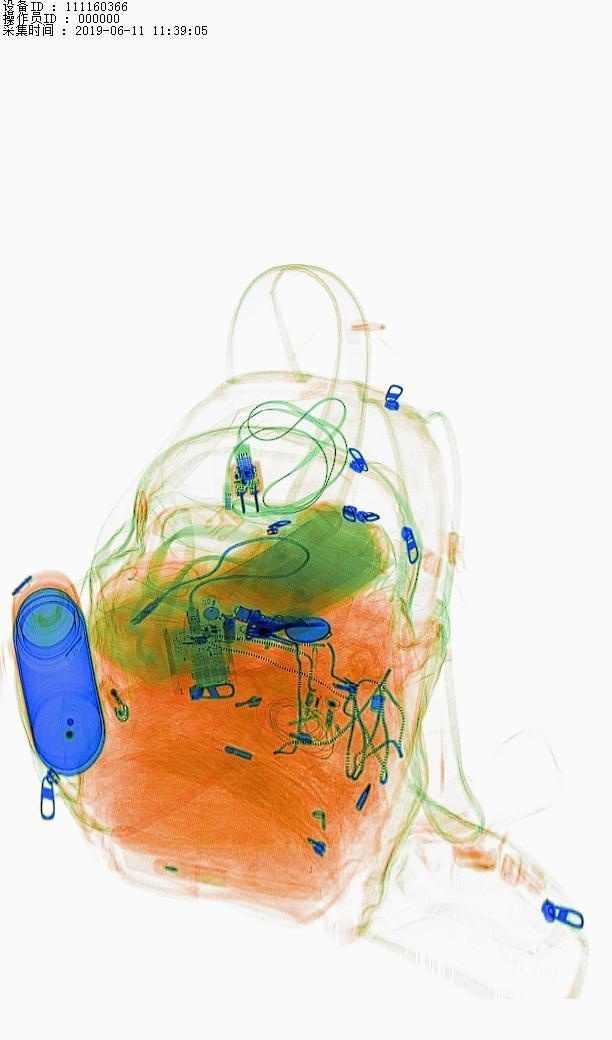NonmetallicFire: (87, 658, 174, 754)
